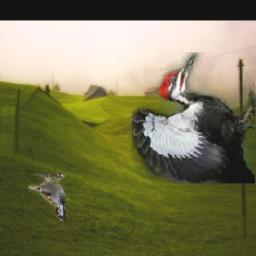Sparrow: (28, 173, 65, 222)
Woodpecker: (133, 53, 256, 184)
